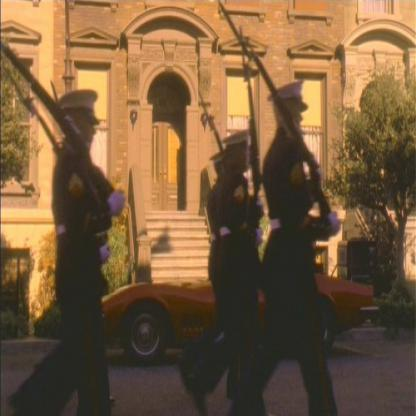Gun: (0, 37, 124, 210), (240, 33, 334, 242)
